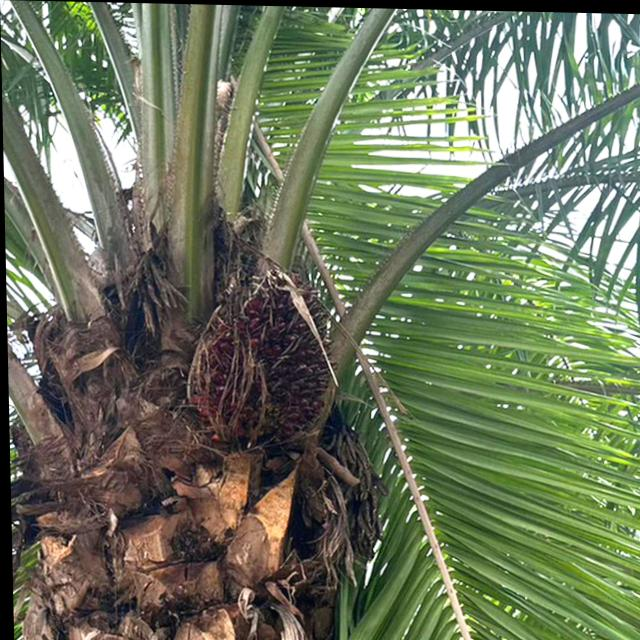ripe: (171, 252, 357, 465)
